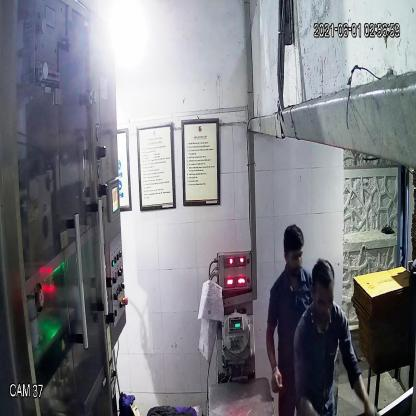no_goggles: (284, 247, 306, 265)
